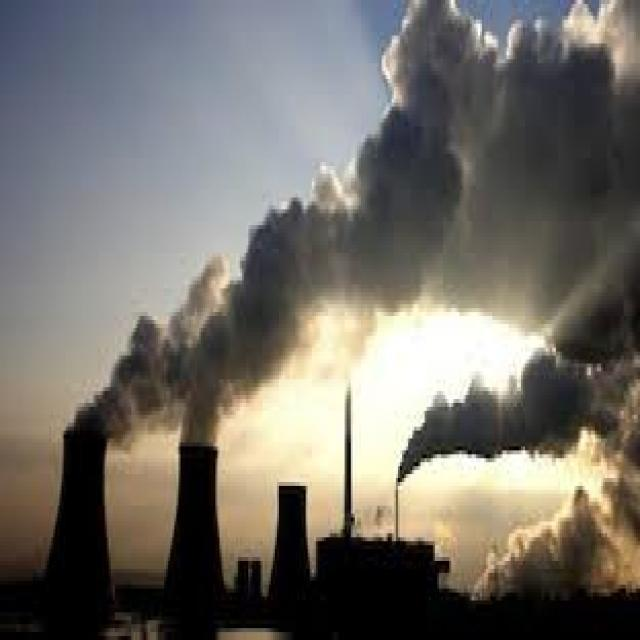Smoke: (82, 0, 640, 588)
